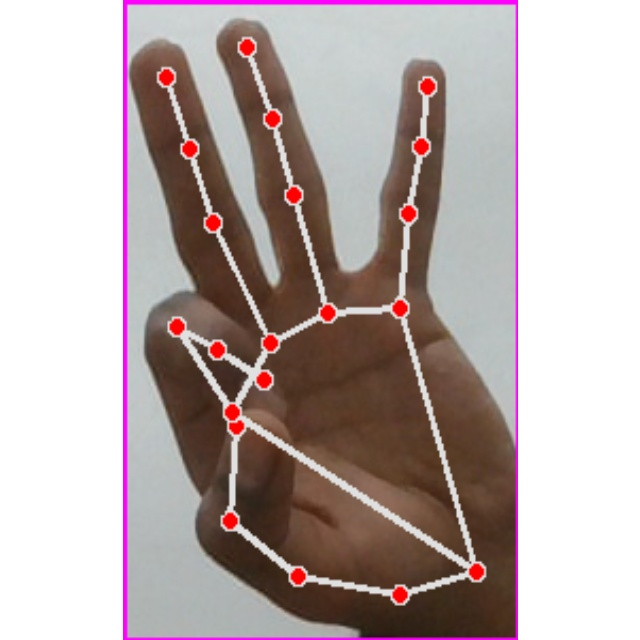F: (123, 0, 518, 640)
